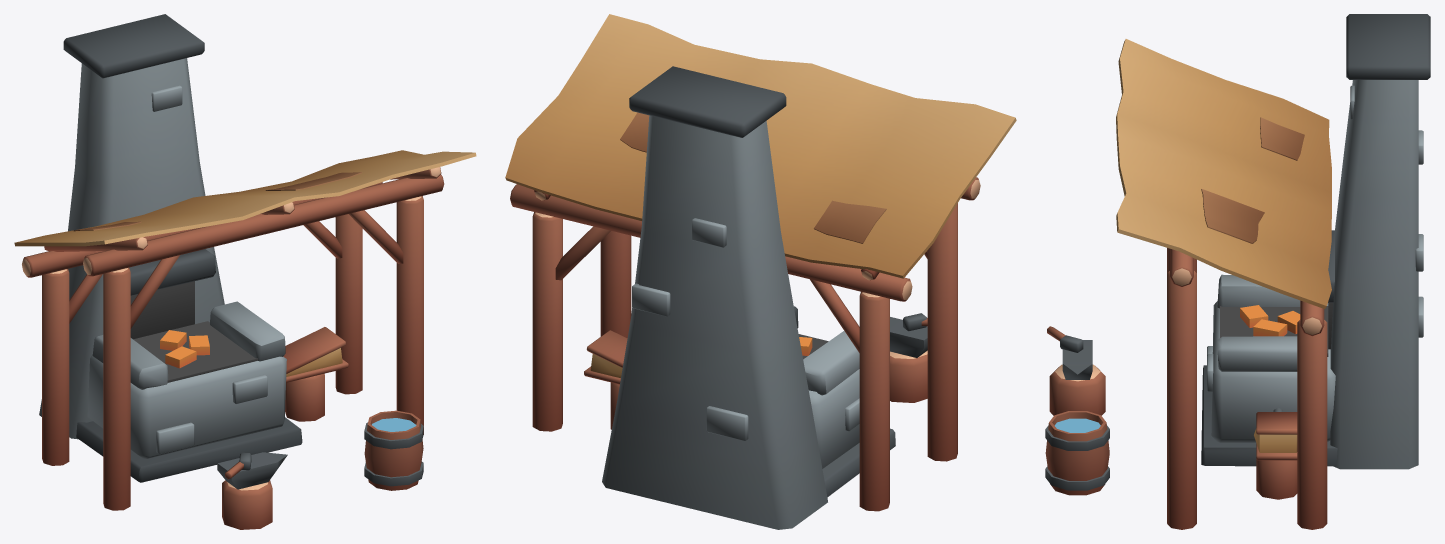
The model's file is forge.fbx.
3 views of the same model, side by side, from view 1: azimuth 30°, elevation 25°; view 2: azimuth 150°, elevation 25°; view 3: azimuth 270°, elevation 25° (orthographic). The views are drawn at different scales.
Visible parts, largest first — view 1: forge; view 2: forge; view 3: forge.
Part boxes in pixels (bbox=[...]): forge: bbox=[14, 14, 476, 529]; forge: bbox=[505, 14, 1016, 529]; forge: bbox=[1045, 14, 1430, 529].
Size of the model in its own units: 2.29 by 2.15 by 1.92.
Materials: 1 (1 with a texture image).
